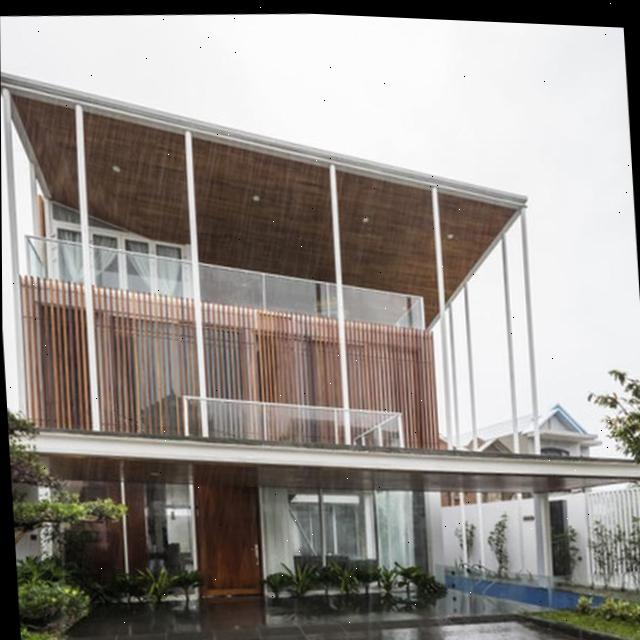building: (0, 41, 549, 606), (442, 394, 606, 509)
